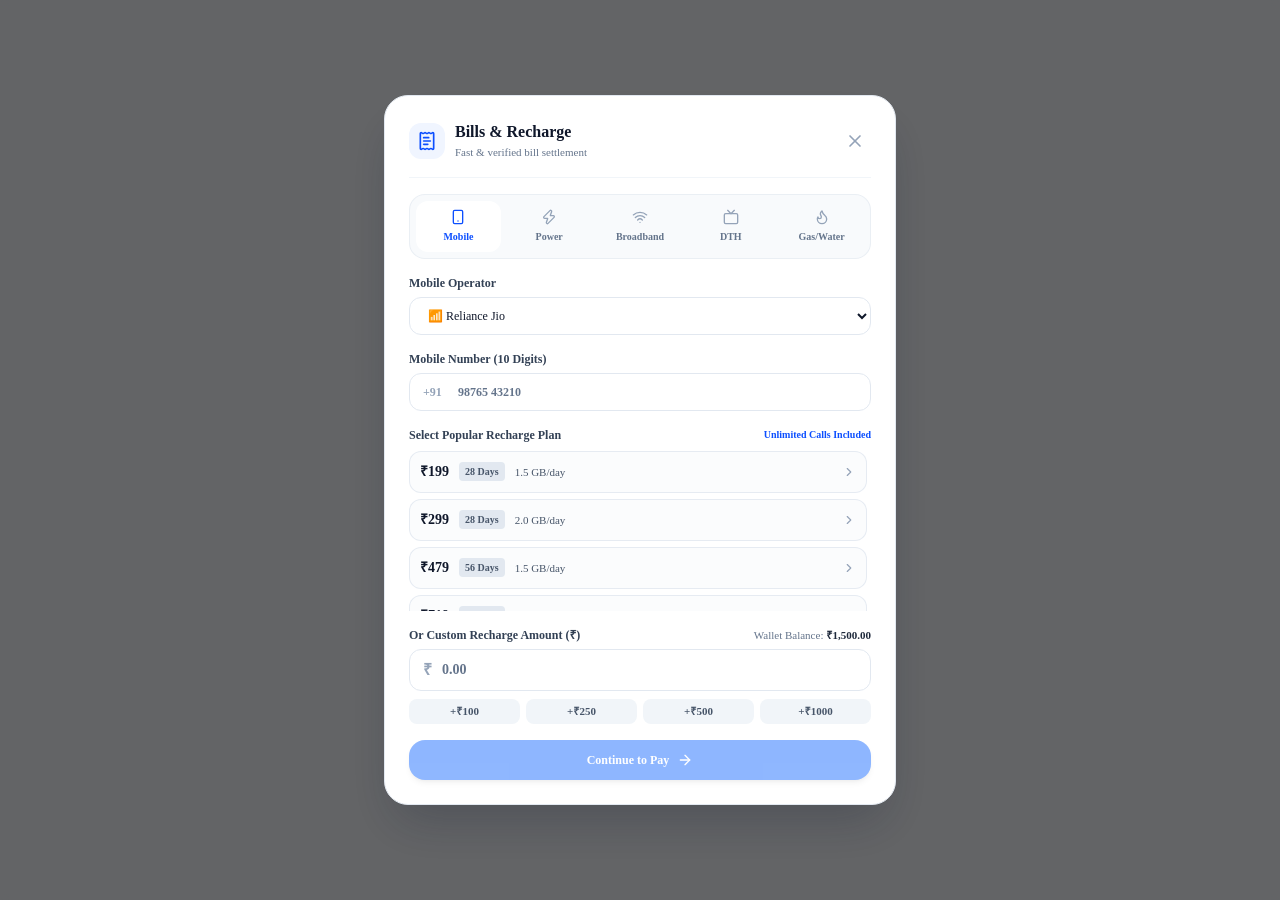
Test: Bills & Recharge Modal Flow › allows user to select operator, select a recharge plan, and pay successfully
Expected: the heading "Bills & Recharge" is shown, [455,120,587,144]
Expected: the button "Mobile" is shown, [416,201,501,252]
Type "9876543210" into the field with placeholder "98765 43210" at (640, 392), box [409,373,871,411]
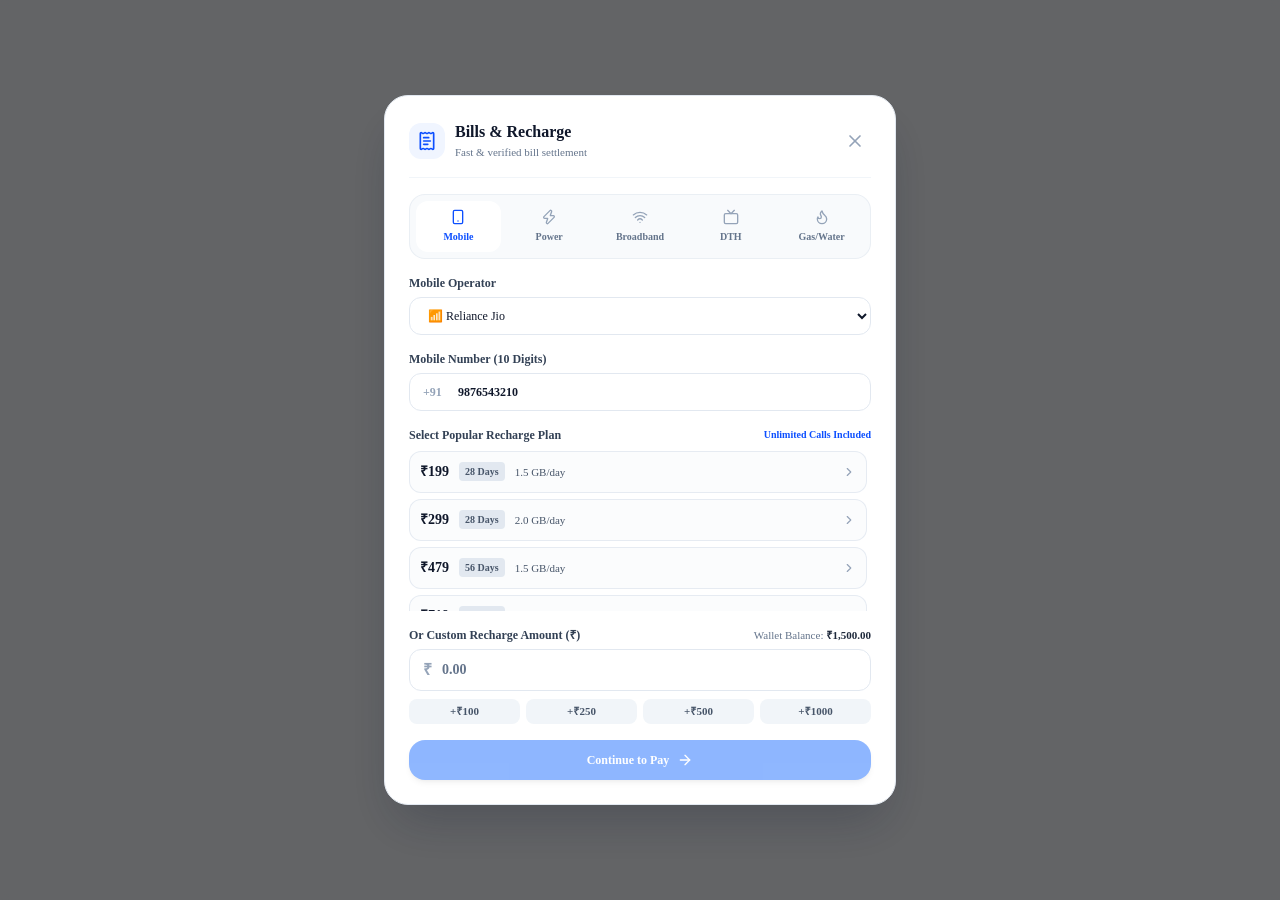
// Click on a popular plan (₹299)
Click the text "₹299" at (434, 520), box [420,510,449,530]
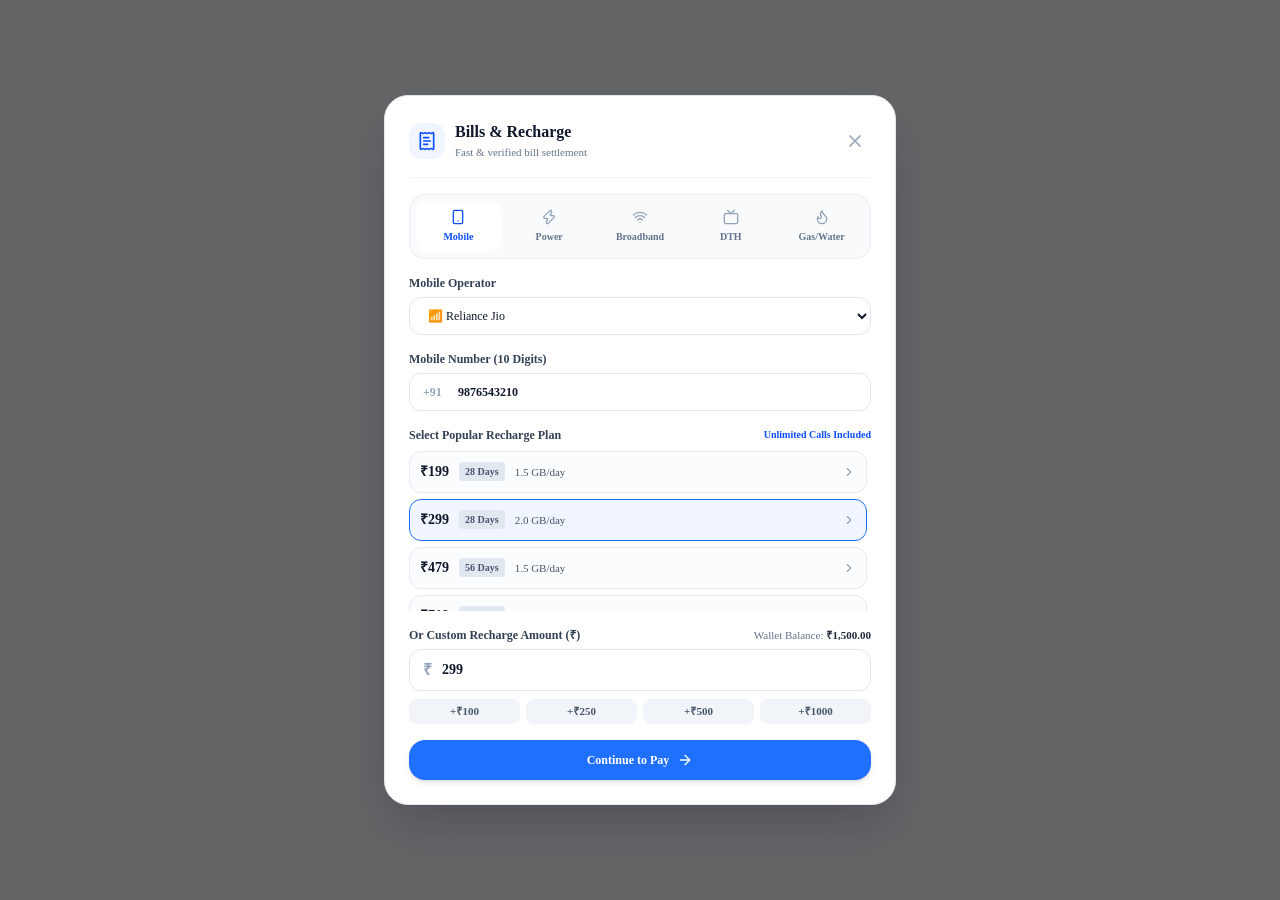
// Proceed to Review
Click the button "Continue to Pay" at (640, 760), box [409,740,871,780]
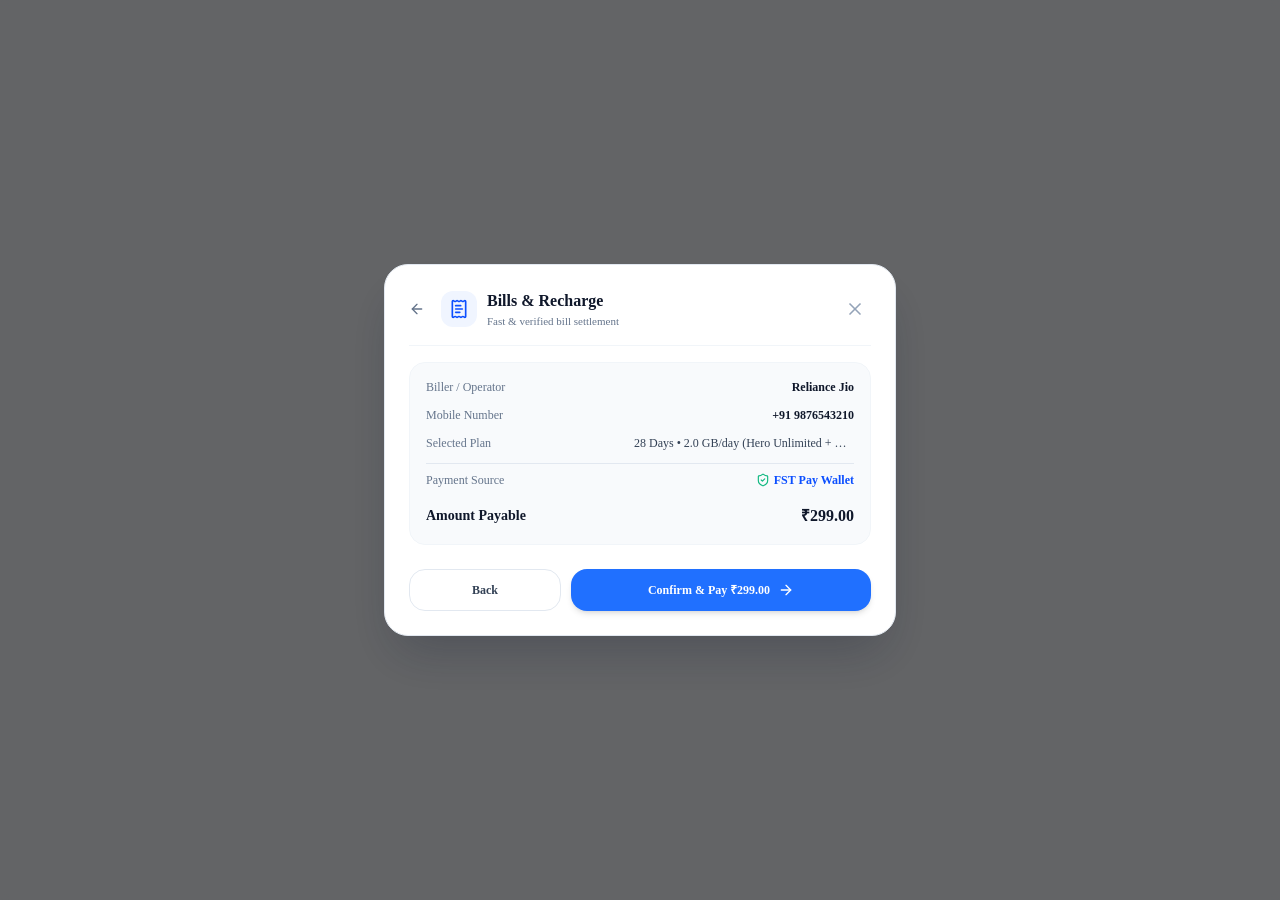
Now the text "Biller / Operator" is shown, box [426,379,505,395]
Now the text "Reliance Jio" is shown, box [792,379,854,395]
// Click Pay Now
Click the button "Confirm & Pay ₹299.00" at (721, 590), box [571,569,871,611]
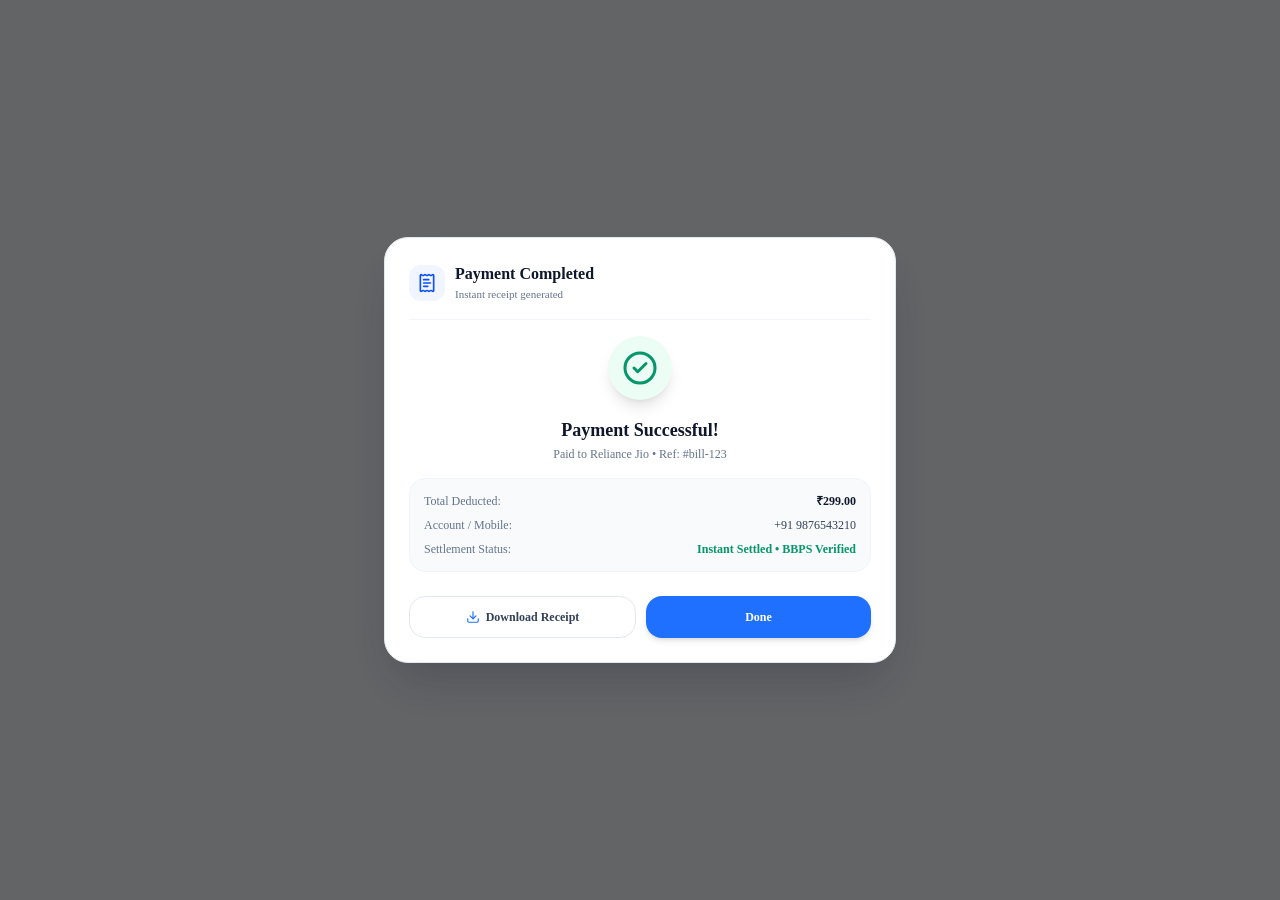
Now the heading "Payment Successful!" is shown, box [561,420,719,440]
Now the text "Download Receipt" is shown, box [486,609,579,625]
